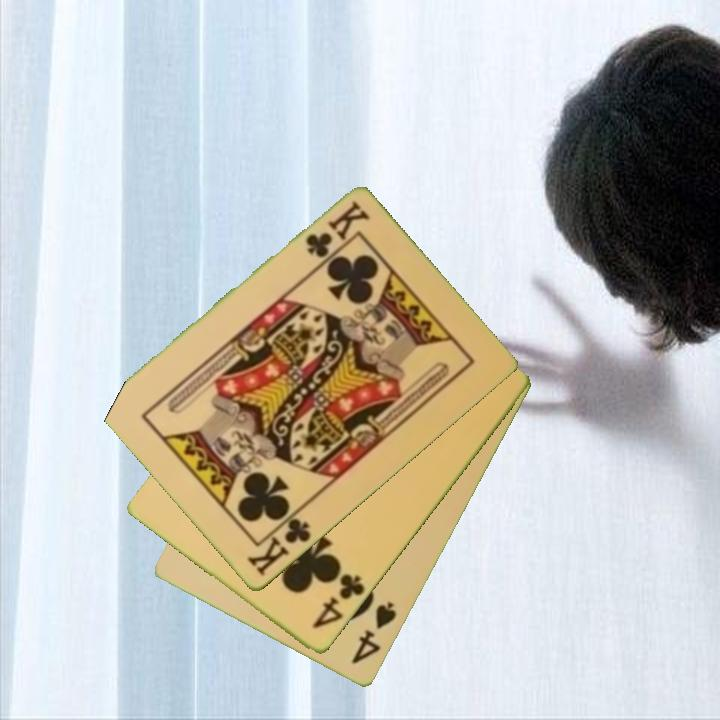4c: (309, 570, 368, 632)
4s: (348, 598, 400, 668)
Kc: (243, 506, 314, 580), (301, 197, 372, 262)
